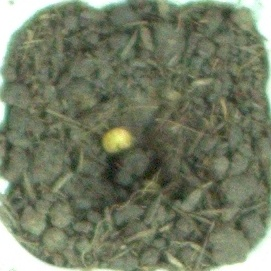pepper seed: (32, 49, 170, 206)
